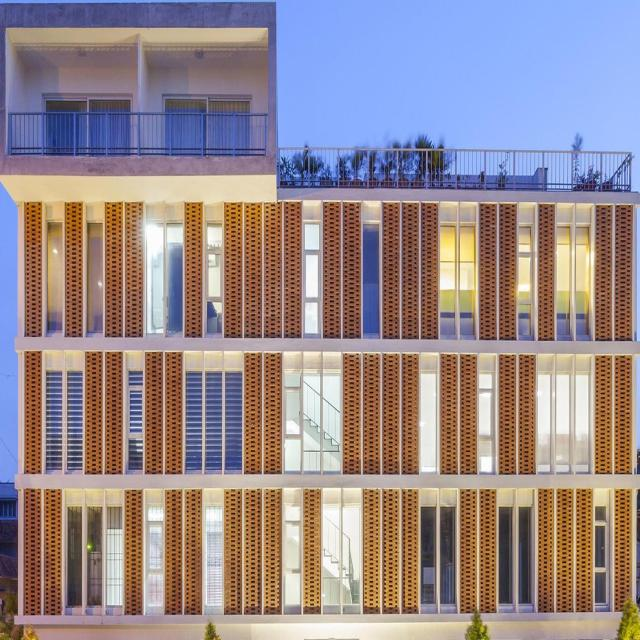Railing: (281, 146, 633, 188), (7, 111, 269, 156)
wall: (0, 0, 639, 639)
windows: (283, 368, 342, 473), (64, 504, 122, 607), (539, 368, 591, 471), (324, 487, 364, 610), (148, 219, 184, 334), (420, 506, 457, 612), (498, 504, 534, 609), (441, 222, 474, 336), (557, 225, 590, 323), (142, 491, 165, 612), (202, 489, 222, 615), (418, 370, 441, 473), (285, 490, 304, 613), (205, 224, 225, 334), (86, 224, 105, 336), (47, 218, 65, 333), (305, 222, 322, 336), (592, 500, 610, 607), (205, 370, 224, 468), (362, 222, 378, 336), (224, 372, 242, 472), (184, 372, 202, 472), (124, 372, 142, 472), (67, 370, 84, 474), (478, 374, 496, 470), (519, 225, 534, 338), (47, 368, 62, 472), (164, 98, 253, 111), (45, 99, 132, 109)
